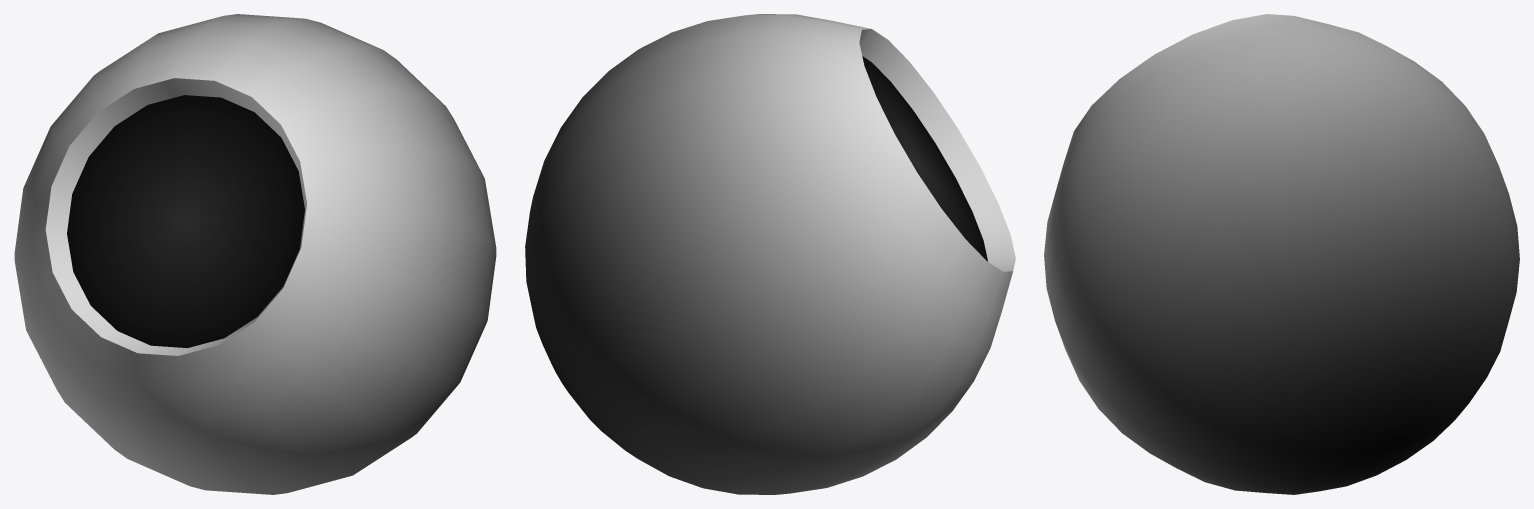
File: BG_sphere_hole.fbx
3 views of the same model, side by side, from view 1: azimuth 30°, elevation 25°; view 2: azimuth 150°, elevation 25°; view 3: azimuth 270°, elevation 25° (orthographic).
Visible parts, largest first — view 1: BG_sphere_hole; view 2: BG_sphere_hole; view 3: BG_sphere_hole.
Part boxes in pixels (x1,y1,x2,y2): BG_sphere_hole: (14, 14, 496, 494); BG_sphere_hole: (525, 14, 1015, 494); BG_sphere_hole: (1044, 14, 1519, 494).
Bounding box in the file's own units: 1637 × 1632 × 1634.
